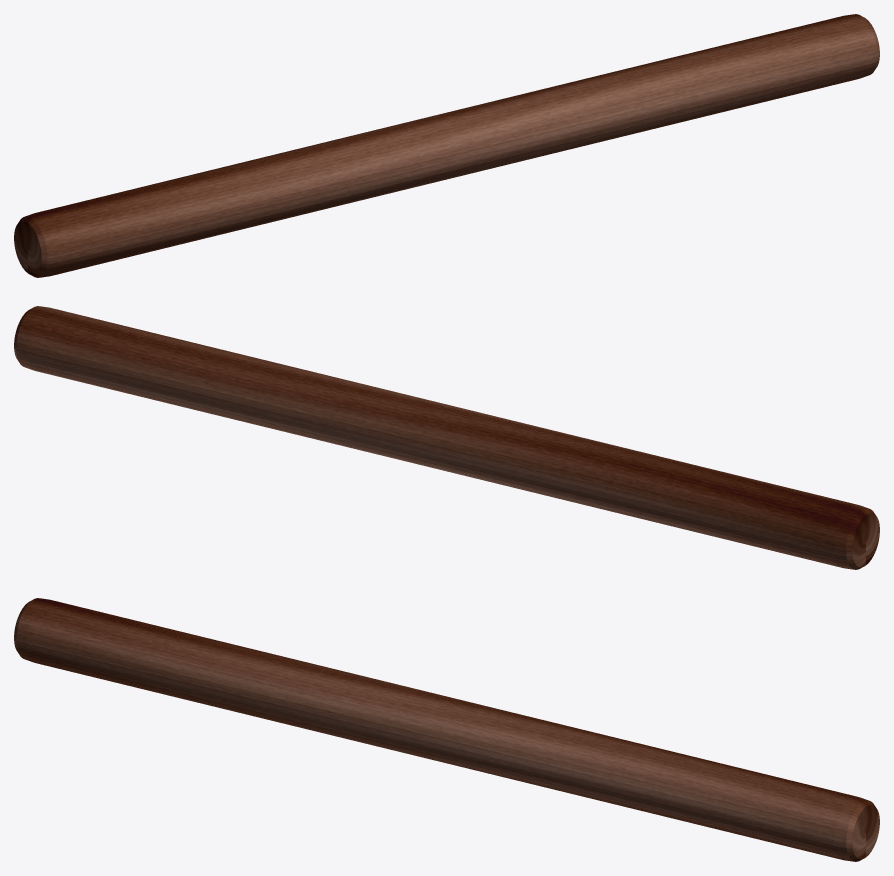
The model's file is shaft.obj.
3 views of the same model, one above another, from view 1: azimuth 30°, elevation 25°; view 2: azimuth 150°, elevation 25°; view 3: azimuth 330°, elevation 25° (orthographic).
Parts seen in each view (by area): view 1: shaft; view 2: shaft; view 3: shaft.
Boxes of the visible parts, x1=… form: shaft: x1=14, y1=14, x2=879, y2=277; shaft: x1=14, y1=306, x2=879, y2=569; shaft: x1=14, y1=598, x2=879, y2=861.
Bounding box in the file's own units: 110 × 7.43 × 7.43.
1 material, 1 textured.
